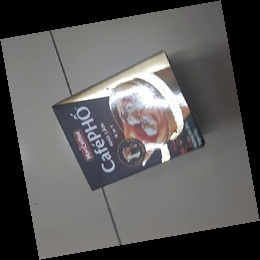CF pho: (49, 49, 206, 192)
